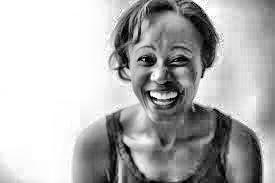happy: (117, 12, 218, 120)
